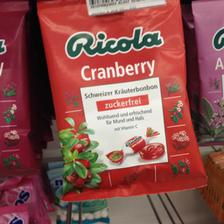Suessigkeit: (37, 2, 207, 194)
